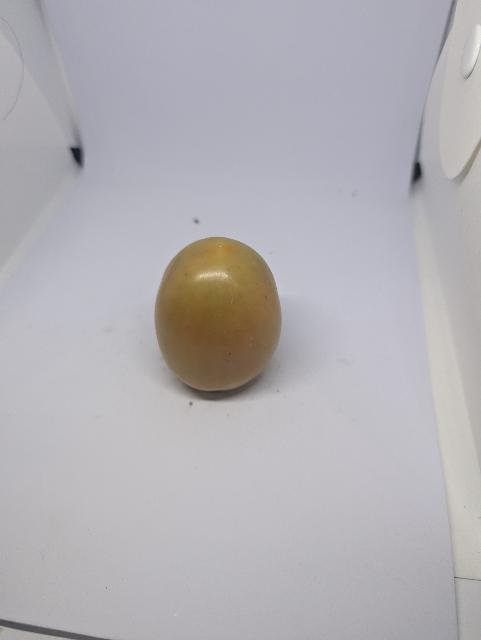breaker: (155, 237, 282, 391)
